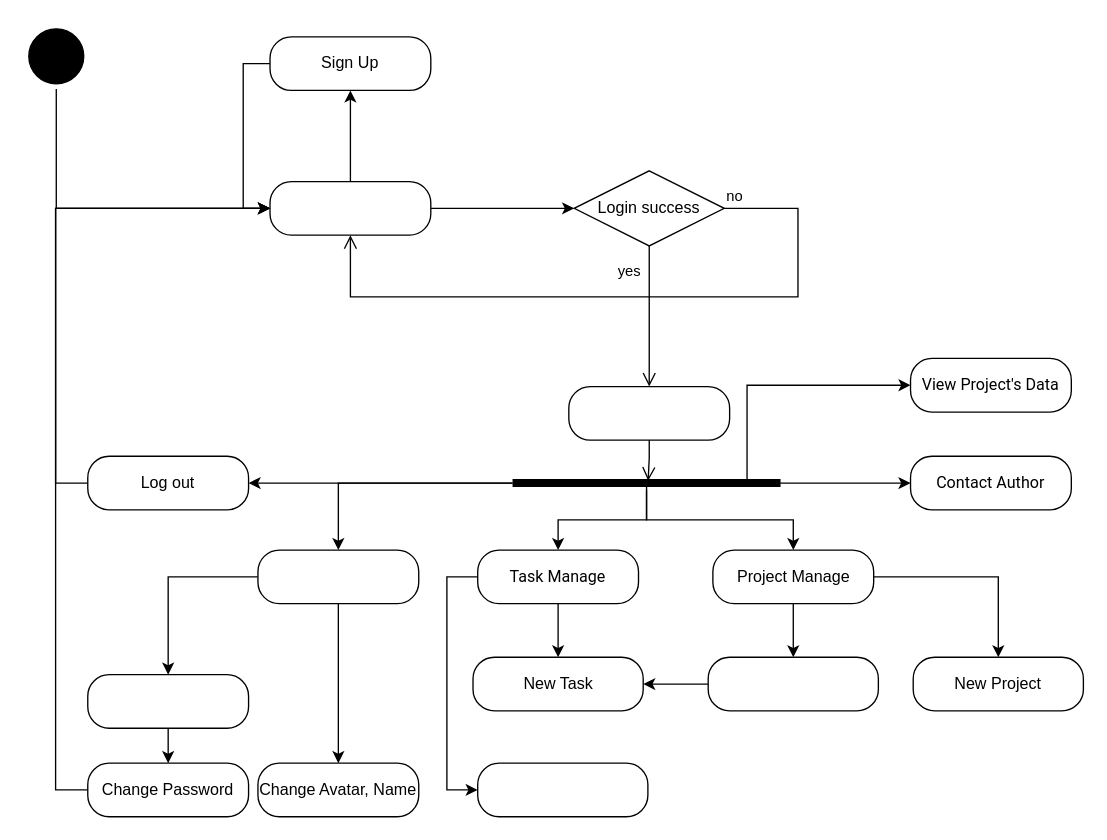
Some shapes in this 1107 by 840 pixel diagram are drawn without their labels. The centre of each missing label's shape, as x and y in pixels:
"Change information" belongs at (x=167, y=700).
"Change Task's Status" belongs at (x=562, y=789).
"Log in Screen" belongs at (x=350, y=207).
"Overview" belongs at (x=648, y=412).
"Profile" belongs at (x=338, y=576).
"Project Detail" belongs at (x=792, y=683).
